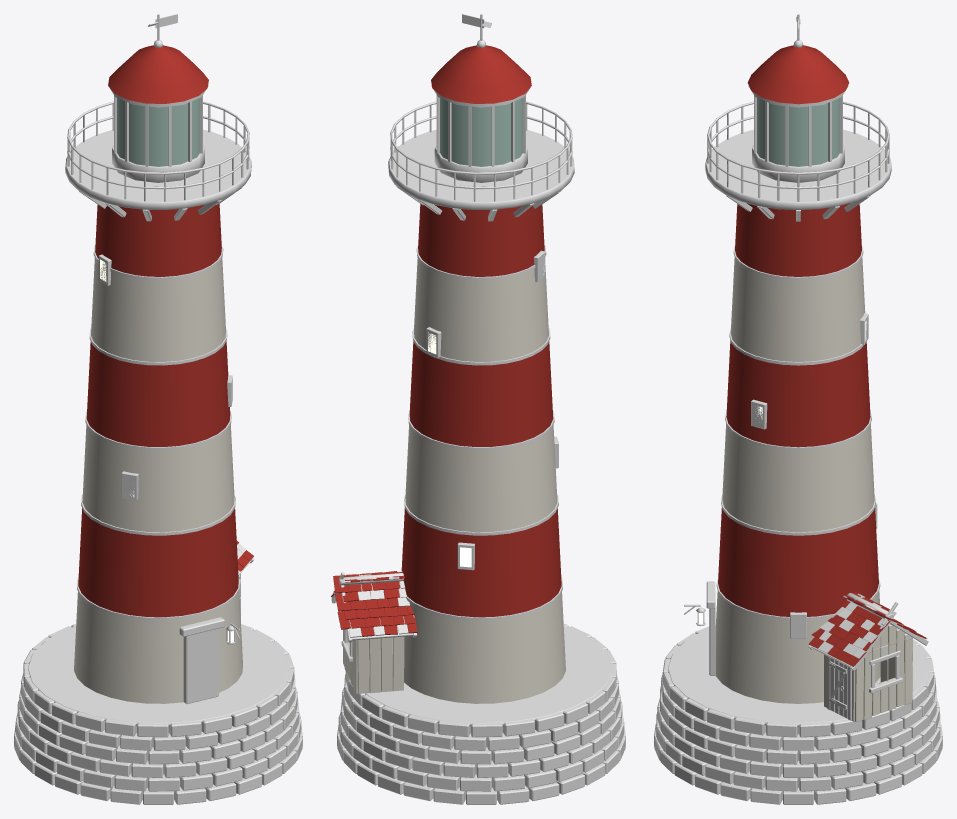
File: Lighthouse.fbx
The picture shows the model from 3 angles, left to right: view 1: azimuth 30°, elevation 25°; view 2: azimuth 150°, elevation 25°; view 3: azimuth 270°, elevation 25°; orthographic projection.
Parts seen in each view (by area): view 1: Lighthouse__paint_red, Lighthouse__paint_white, Lighthouse__stone, Lighthouse__stone_dk, Lighthouse__iron, Lighthouse__glass, Lighthouse__wood_red, Lighthouse__wood_dark; view 2: Lighthouse__paint_red, Lighthouse__paint_white, Lighthouse__stone, Lighthouse__stone_dk, Lighthouse__iron, Lighthouse__glass, Lighthouse__wood_dark, Lighthouse__brick; view 3: Lighthouse__paint_red, Lighthouse__paint_white, Lighthouse__stone, Lighthouse__stone_dk, Lighthouse__iron, Lighthouse__glass, Lighthouse__wood_dark, Lighthouse__brick, Lighthouse__wood_teal.
Part boxes in pixels (x1,y1,x2,y2): Lighthouse__paint_red: (78,45,253,617); Lighthouse__paint_white: (74,258,242,703); Lighthouse__stone: (14,129,301,804); Lighthouse__stone_dk: (19,187,302,800); Lighthouse__iron: (67,14,249,644); Lighthouse__glass: (117,98,199,166); Lighthouse__wood_red: (183,628,218,703); Lighthouse__wood_dark: (98,254,254,620); Lighthouse__paint_red: (331,45,561,636); Lighthouse__paint_white: (343,258,565,703); Lighthouse__stone: (337,129,625,800); Lighthouse__stone_dk: (337,186,625,804); Lighthouse__iron: (390,14,572,201); Lighthouse__glass: (440,98,522,166); Lighthouse__wood_dark: (331,250,558,661); Lighthouse__brick: (333,571,409,637); Lighthouse__paint_red: (718,45,926,666); Lighthouse__paint_white: (715,258,912,721); Lighthouse__stone: (654,129,942,804); Lighthouse__stone_dk: (654,195,942,804); Lighthouse__iron: (684,14,889,703); Lighthouse__glass: (757,98,839,166); Lighthouse__wood_dark: (751,313,928,720); Lighthouse__brick: (818,593,927,658); Lighthouse__wood_teal: (830,658,847,718).
Bounding box in the file's own units: 27.2 × 76 × 27.24.
